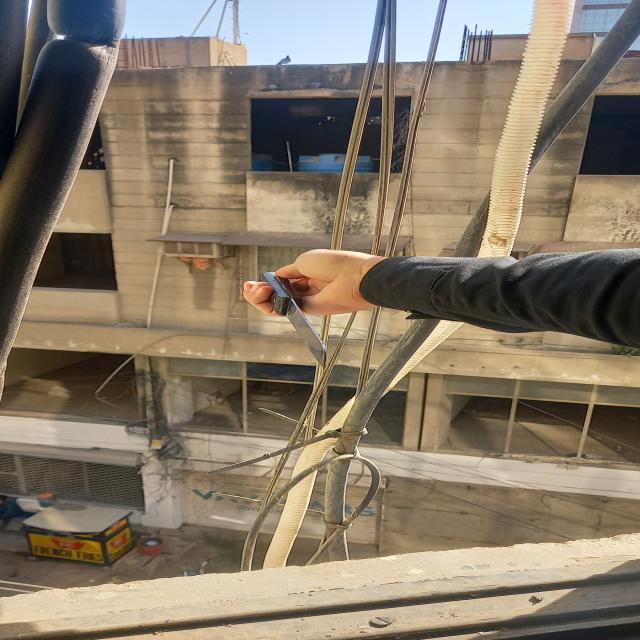Knife: (252, 270, 334, 378)
